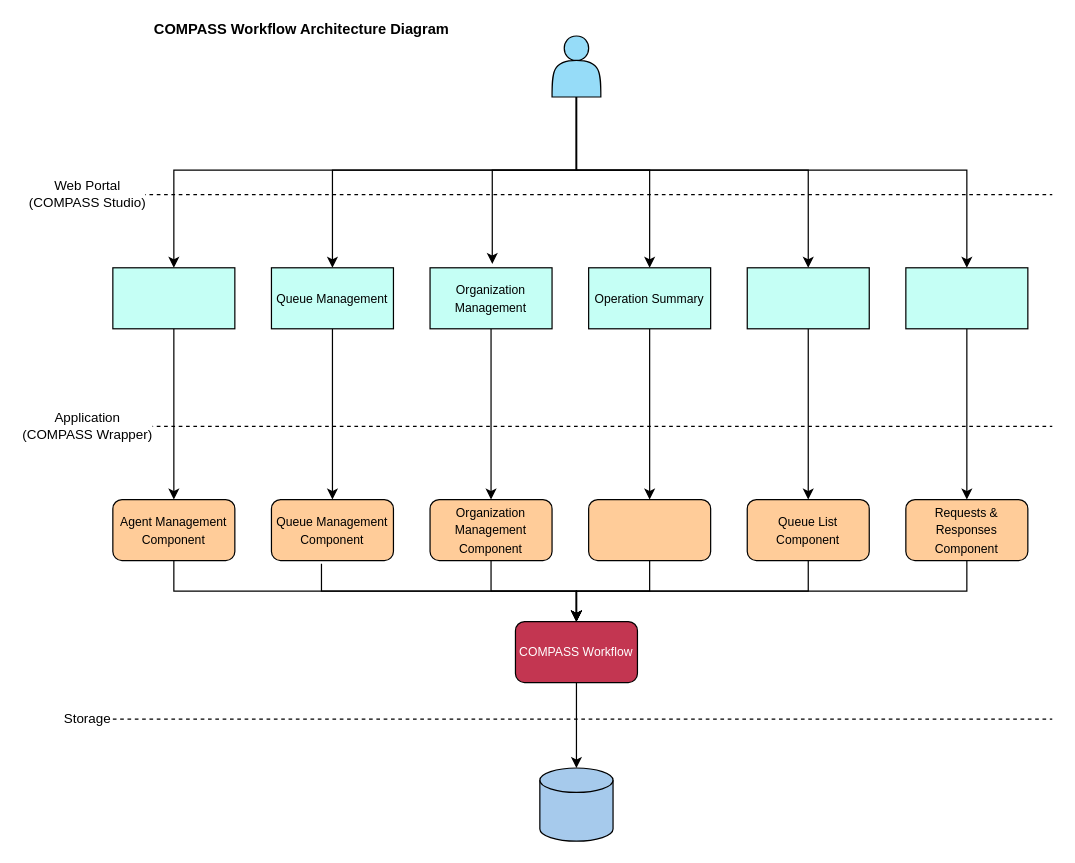
The diagram is 1075 pixels wide and 863 high, and some of its shapes have lost their labels. Each missing label, with the centre of its shape:
"Agent Management" goes at point (173, 298).
"Database" goes at point (576, 804).
"Operation Summary Component" goes at point (649, 529).
"Queue List" goes at point (807, 298).
"Requests & Responses" goes at point (966, 298).
